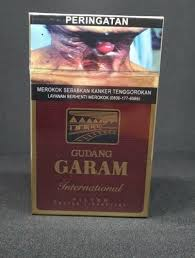garam filter: (19, 8, 171, 219)
